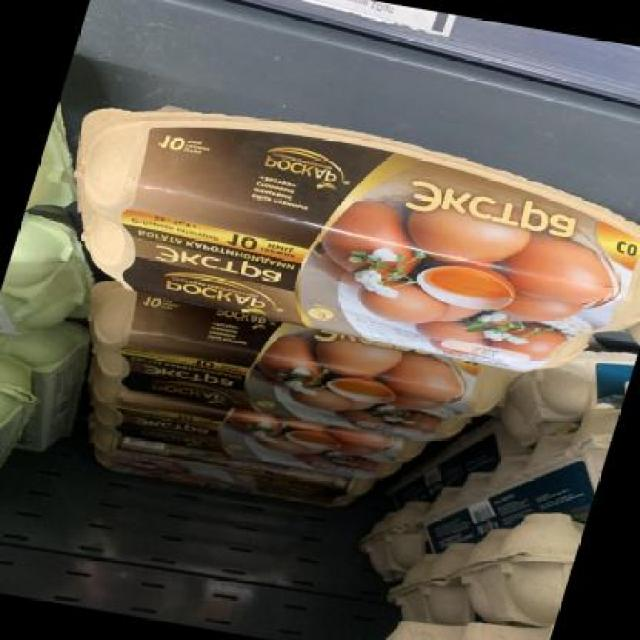Egg: (26, 80, 640, 392), (66, 284, 516, 456), (79, 381, 427, 487)
